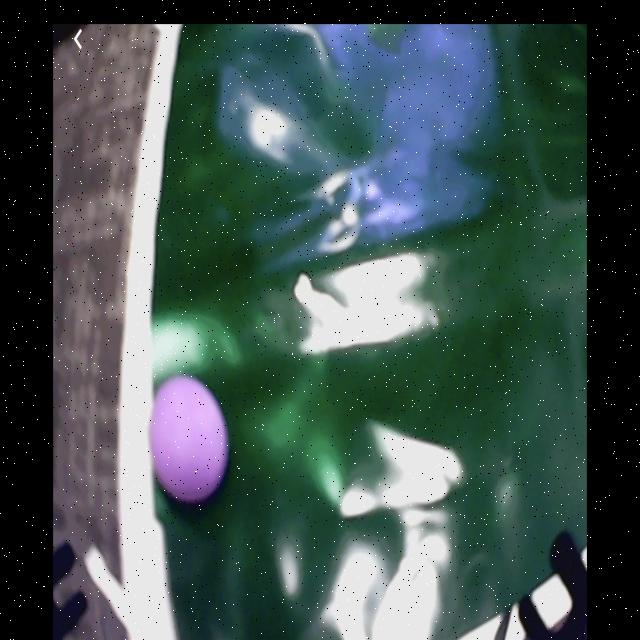ball: (151, 377, 229, 503)
